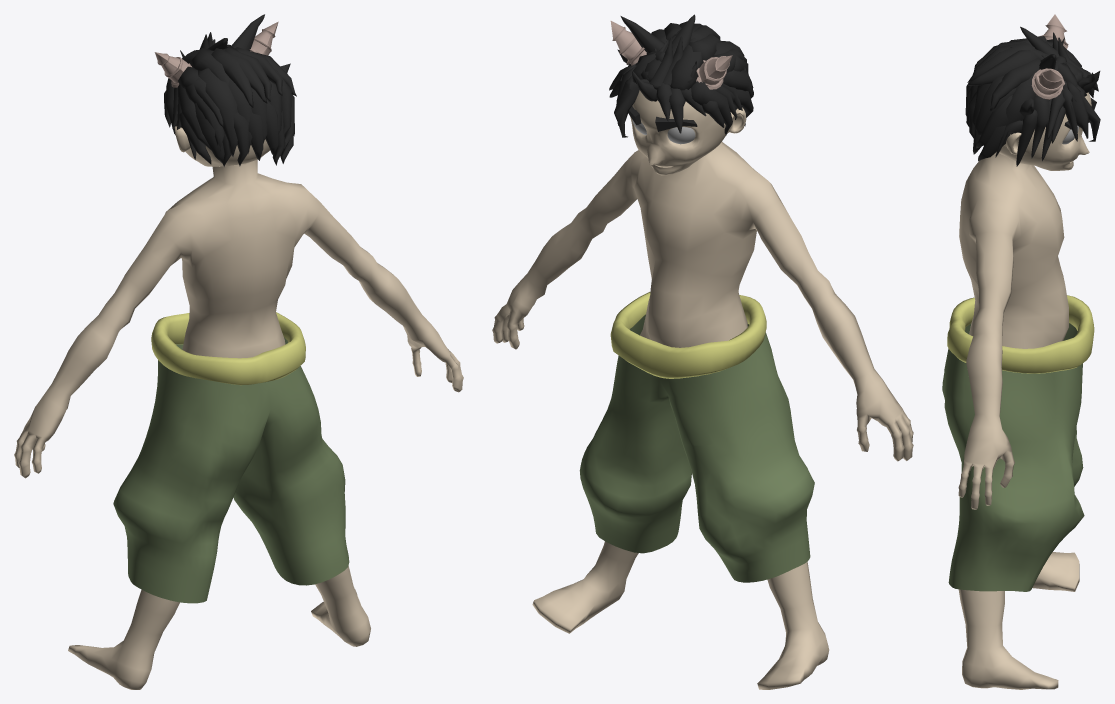
The model's file is pantalon.fbx.
3 renders of one model, left to right at view 1: azimuth 30°, elevation 25°; view 2: azimuth 150°, elevation 25°; view 3: azimuth 270°, elevation 25°, orthographic. The views are drawn at different scales.
Visible parts, largest first — view 1: CharacterFullAlienConspiracyStyle2:Alien02, polySurface80; view 2: CharacterFullAlienConspiracyStyle2:Alien02, polySurface80; view 3: CharacterFullAlienConspiracyStyle2:Alien02, polySurface80.
Part boxes in pixels (bbox=[...]): CharacterFullAlienConspiracyStyle2:Alien02: bbox=[14, 14, 463, 689]; polySurface80: bbox=[113, 312, 349, 603]; CharacterFullAlienConspiracyStyle2:Alien02: bbox=[492, 14, 913, 689]; polySurface80: bbox=[579, 292, 814, 582]; CharacterFullAlienConspiracyStyle2:Alien02: bbox=[958, 14, 1100, 689]; polySurface80: bbox=[942, 295, 1094, 591].
Bounding box in the file's own units: 116 × 162 × 38.07.
